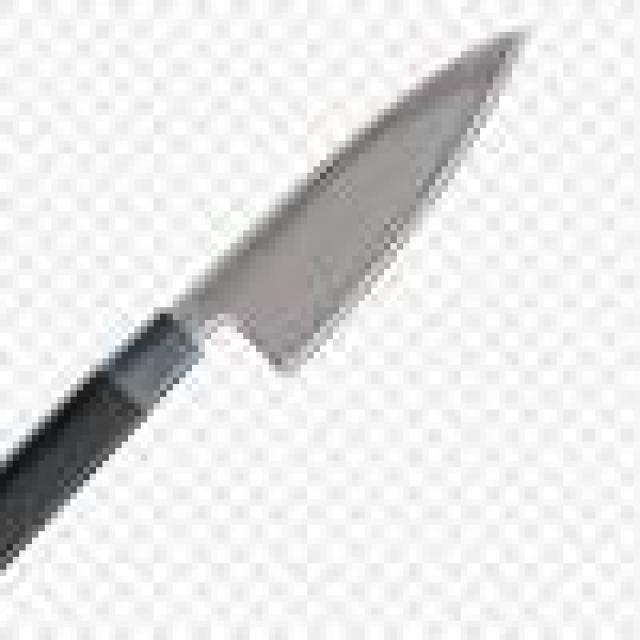Gun: (0, 25, 550, 586)
